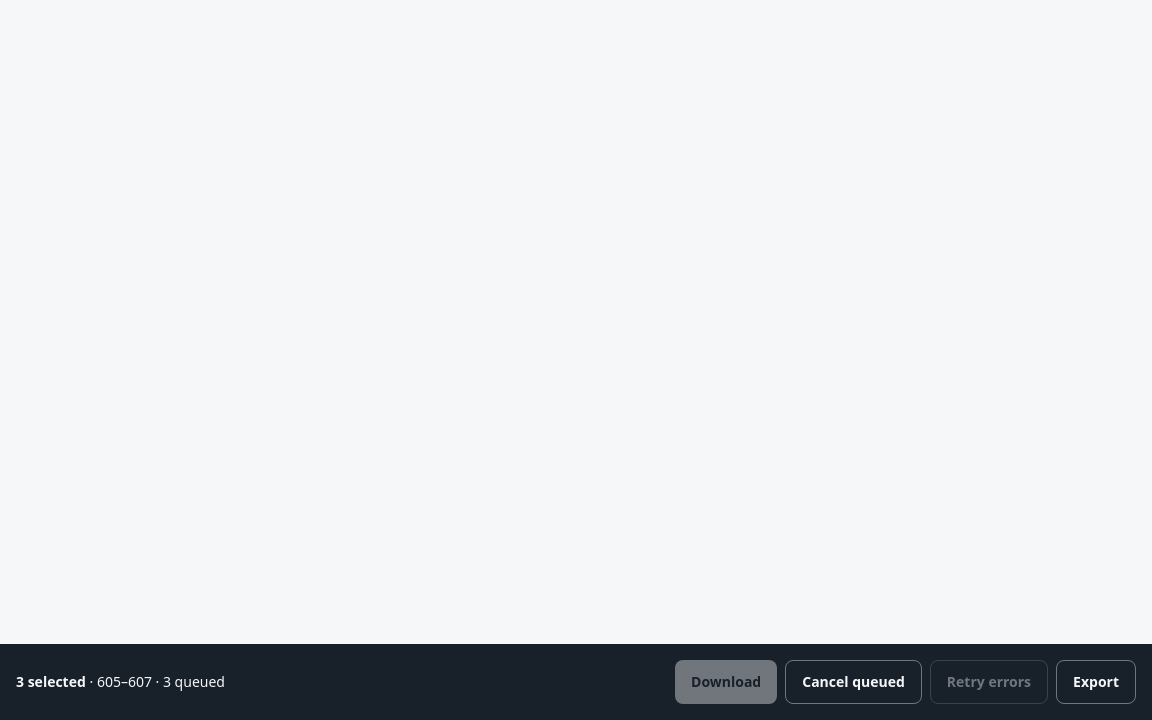
Test case: SelectionBar › the confirmation for Cancel queued › names a waiting export that needs the chapters and sends nothing yet
The image size is (1152, 720).
Click the button "Cancel queued" at (854, 682), box [785, 660, 922, 704]
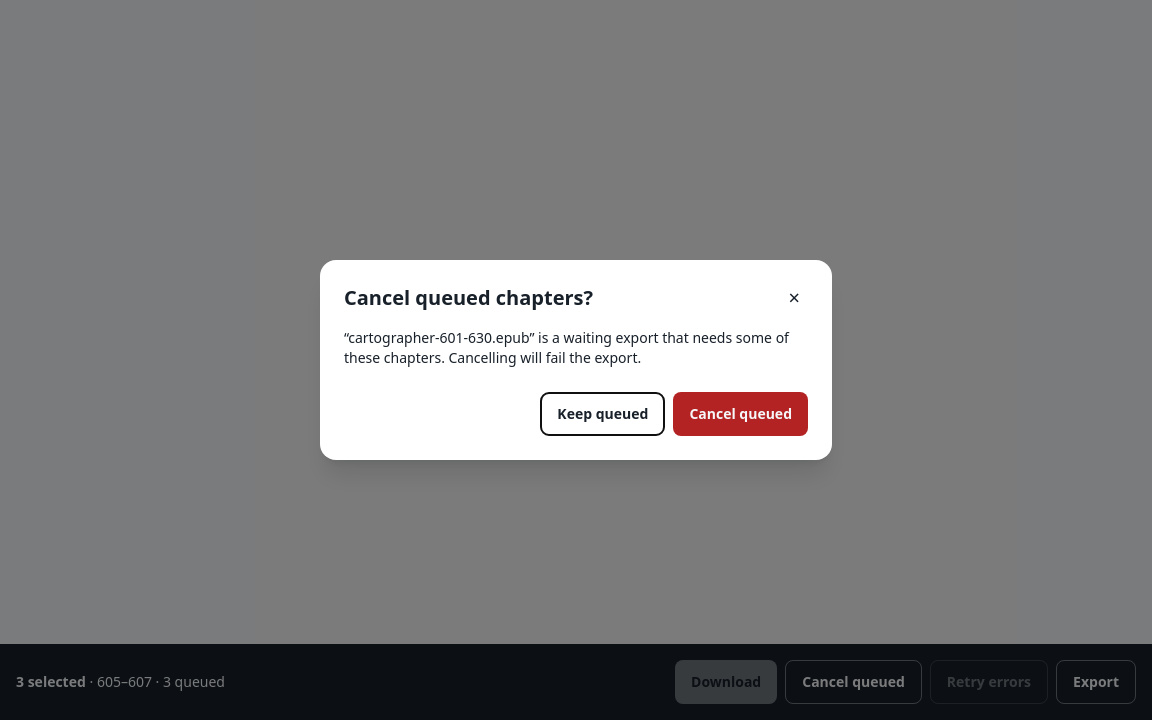
Expected: the dialog shows "cartographer-601-630.epub", [344, 328, 534, 347]
